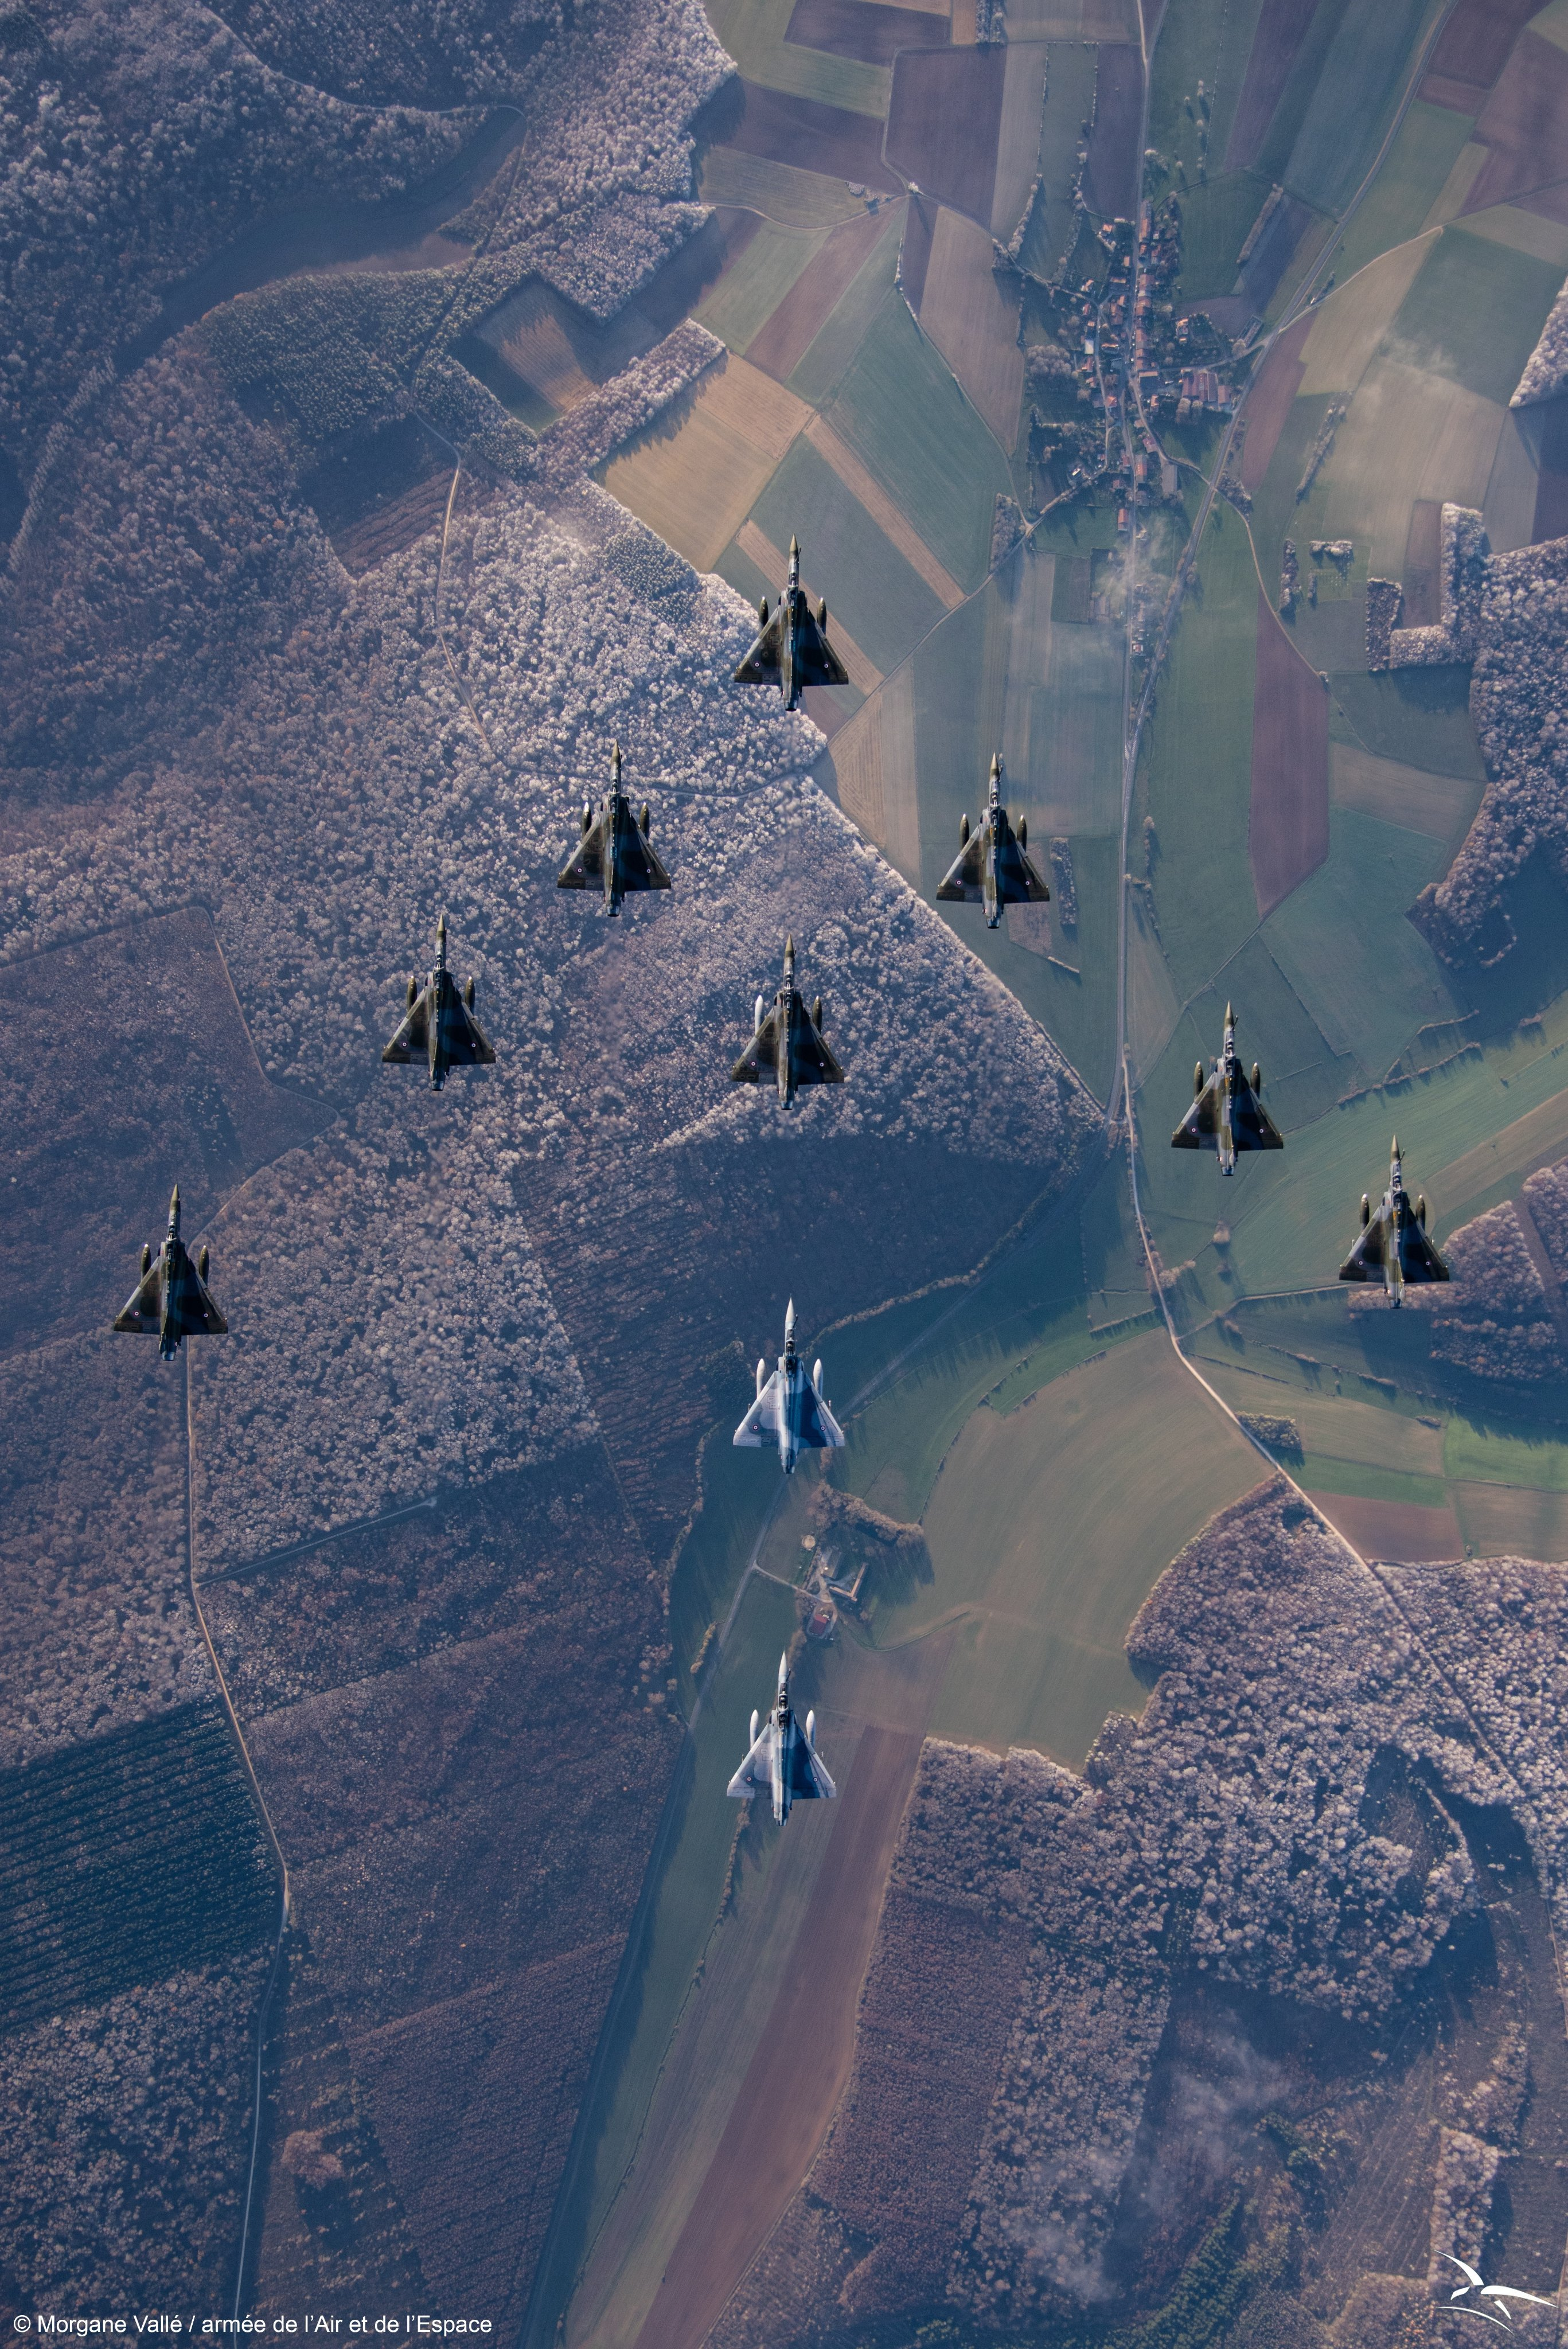Mirage2000: (114, 1181, 229, 1361), (733, 532, 849, 712), (556, 740, 672, 918), (733, 1293, 845, 1474), (381, 913, 495, 1091), (730, 932, 843, 1111), (1169, 999, 1283, 1177), (936, 750, 1050, 929), (726, 1644, 836, 1826), (1339, 1133, 1449, 1308)
